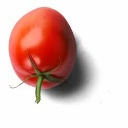tomato: (9, 6, 78, 89)
